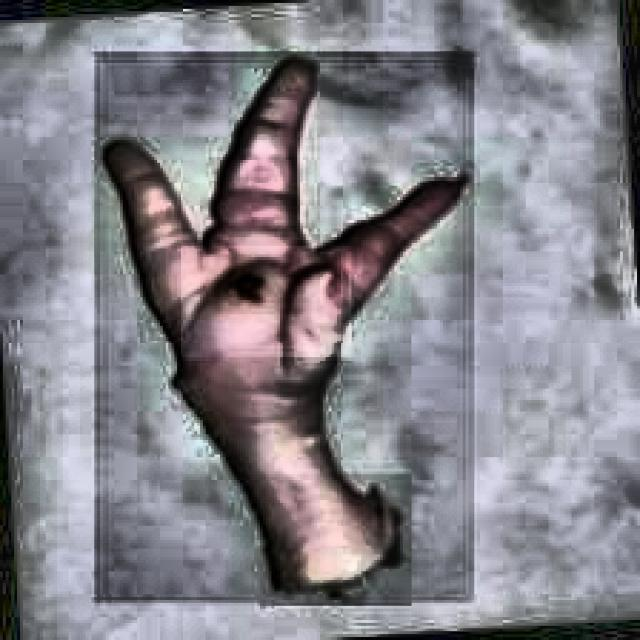Bumble foot: (97, 51, 472, 594)
